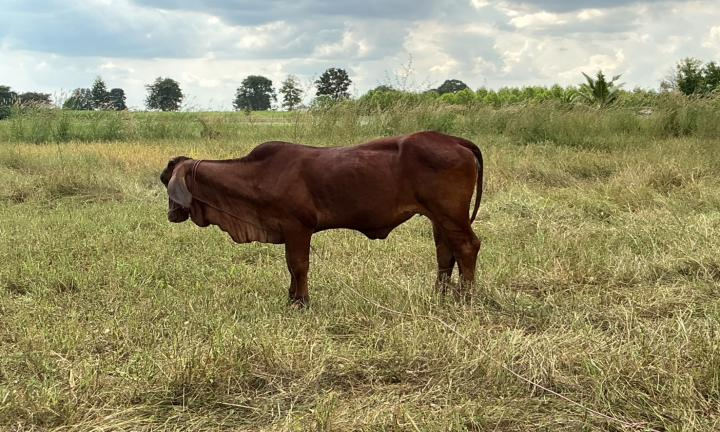Brahman: (161, 131, 483, 302)
